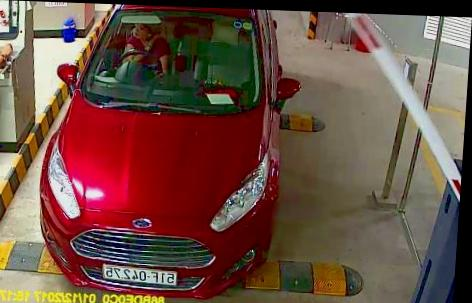License_Plate: (101, 265, 180, 286)
